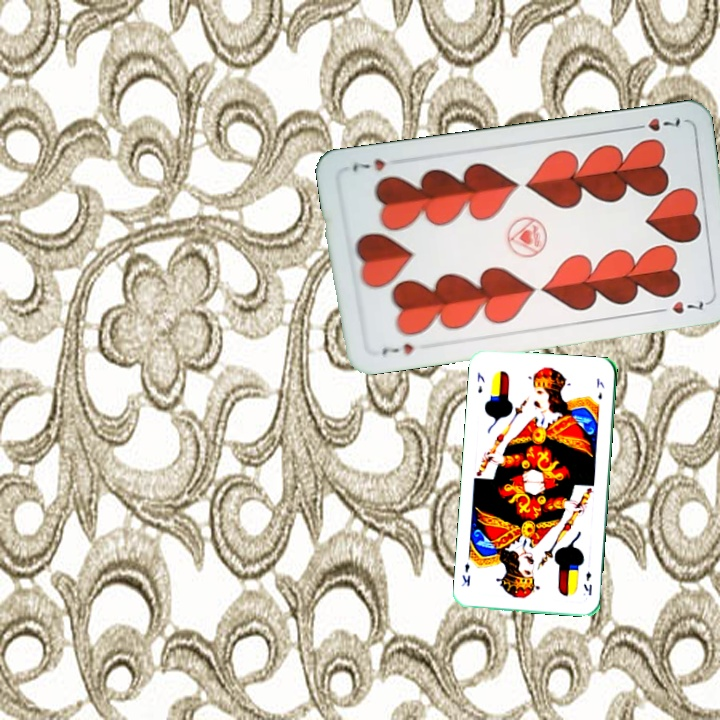EK: (579, 568, 594, 598), (473, 368, 487, 396)
H7: (627, 113, 683, 134), (378, 339, 416, 358)
